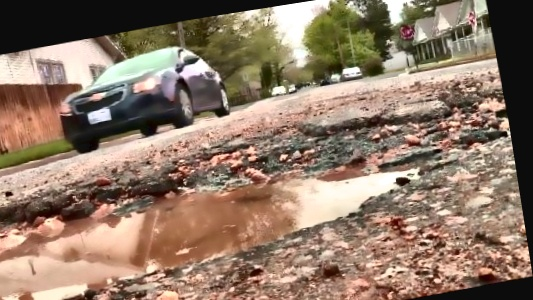pothole: (0, 76, 528, 300)
